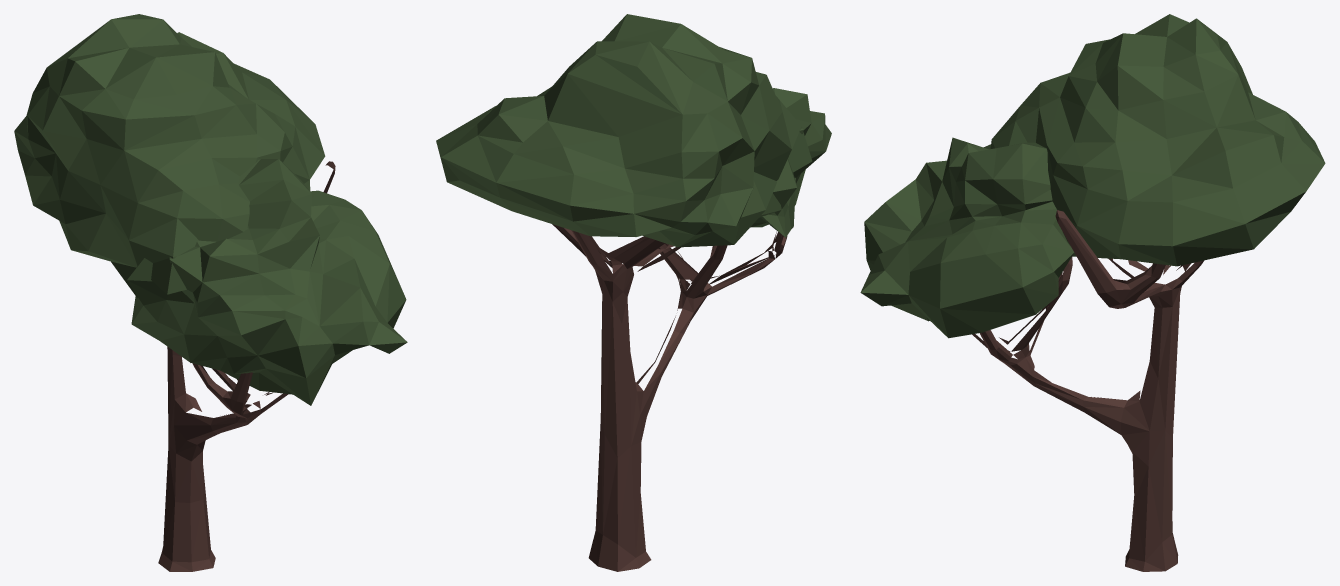
File: CommonTree_2.glb
3 views of the same model, side by side, from view 1: azimuth 30°, elevation 25°; view 2: azimuth 150°, elevation 25°; view 3: azimuth 270°, elevation 25° (orthographic). The views are drawn at different scales.
Visible parts, largest first — view 1: CommonTree_2_Cube.036; view 2: CommonTree_2_Cube.036; view 3: CommonTree_2_Cube.036.
Part boxes in pixels (bbox=[...]): CommonTree_2_Cube.036: bbox=[14, 14, 407, 571]; CommonTree_2_Cube.036: bbox=[436, 14, 831, 571]; CommonTree_2_Cube.036: bbox=[860, 14, 1325, 571].
Size of the model in its own units: 1.66 by 3.12 by 2.54.
